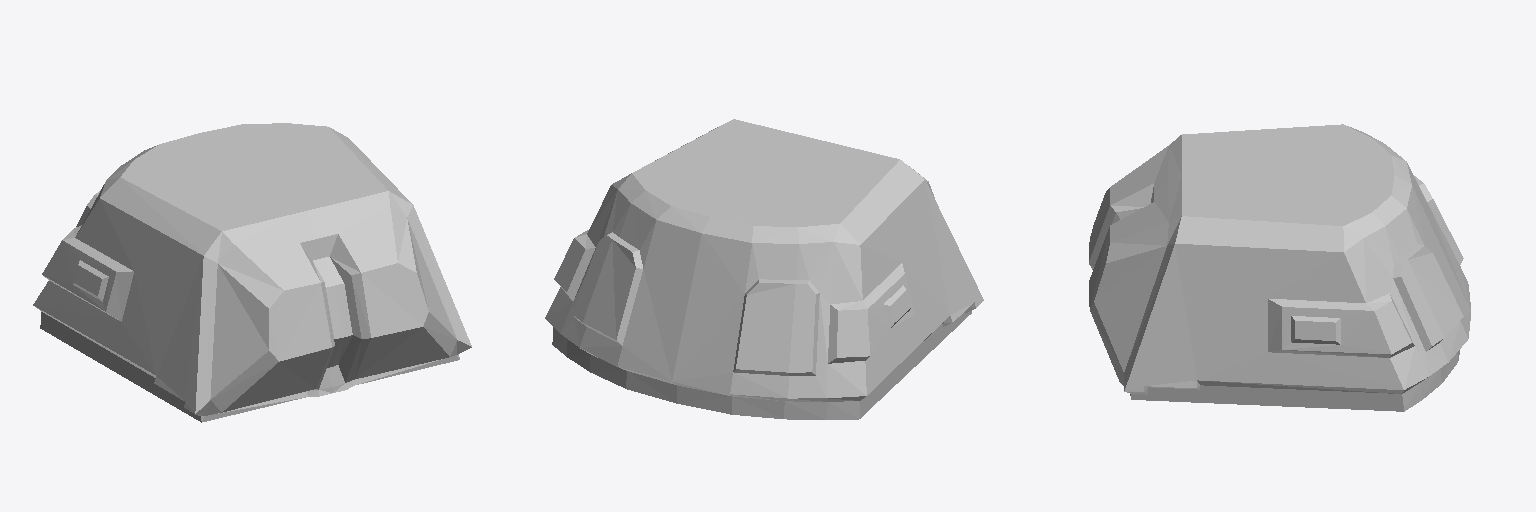
Rendered from gun0-1.obj.
3 renders of one model, left to right at view 1: azimuth 30°, elevation 25°; view 2: azimuth 150°, elevation 25°; view 3: azimuth 270°, elevation 25°, orthographic.
Parts seen in each view (by area): view 1: Tai_HeavyCruiserGun; view 2: Tai_HeavyCruiserGun; view 3: Tai_HeavyCruiserGun.
Boxes of the visible parts, box(x1,y1,x2,y2) form: Tai_HeavyCruiserGun: box(33, 123, 471, 422); Tai_HeavyCruiserGun: box(545, 119, 983, 419); Tai_HeavyCruiserGun: box(1089, 124, 1470, 411).
Size of the model in its own units: 41.68 by 20.02 by 42.93.